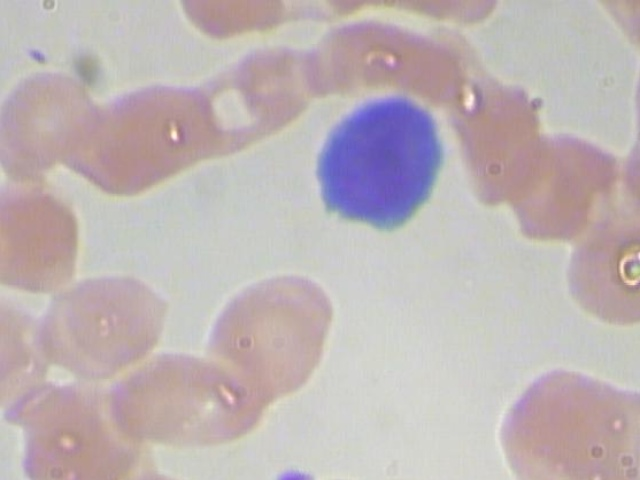RBC: (194, 267, 348, 408), (481, 359, 640, 480), (101, 343, 269, 449), (26, 266, 173, 381), (110, 68, 228, 177), (63, 91, 180, 200), (0, 62, 114, 171), (557, 219, 640, 330)
WBC: (302, 91, 460, 249)
